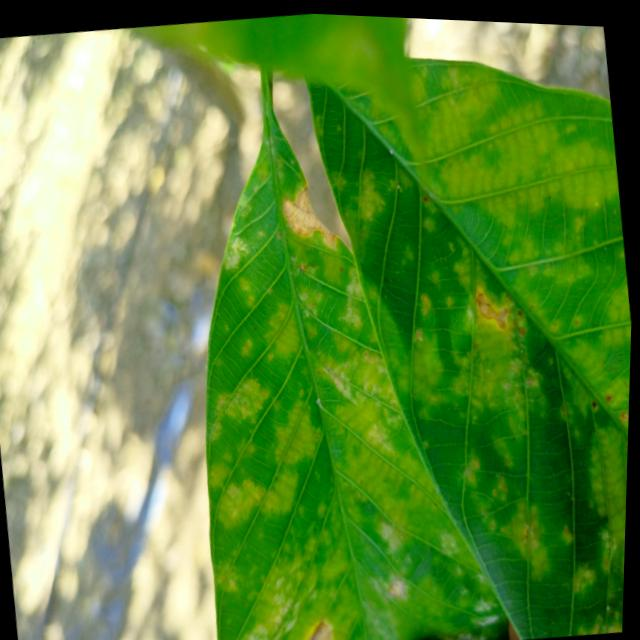Colletotrichum: (300, 258, 307, 267), (518, 303, 525, 312), (593, 393, 600, 402), (423, 190, 429, 198)
Leaf-Blight: (279, 177, 340, 249), (261, 611, 338, 640), (474, 282, 513, 329)
